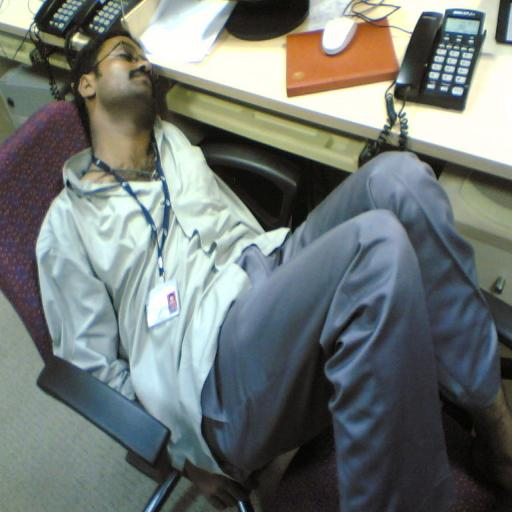Person: (18, 74, 482, 435)
no_goggle: (98, 99, 150, 113)
no_helmet: (71, 86, 138, 104)
none: (79, 156, 291, 385)
